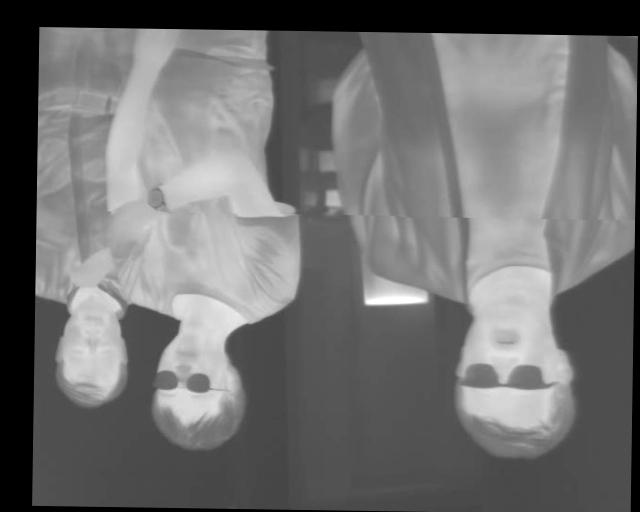face: (452, 300, 577, 462), (148, 328, 247, 453), (53, 296, 130, 410)
